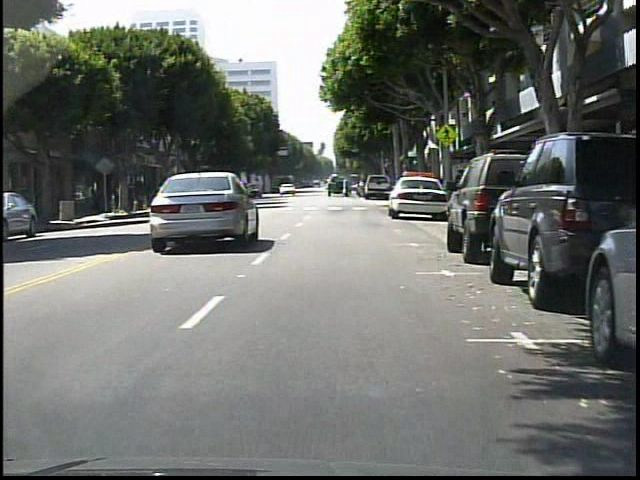person: (86, 179, 96, 212), (125, 185, 135, 213), (117, 184, 125, 211), (345, 176, 346, 197)
